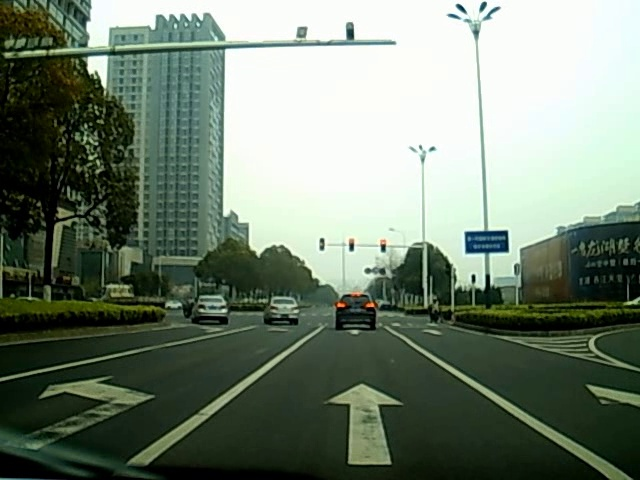Traffic_Light_stop: (347, 239, 354, 252), (380, 240, 386, 254)
